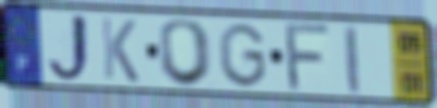F: (284, 22, 335, 94)
G: (215, 21, 270, 90)
I: (342, 23, 363, 97)
J: (45, 11, 96, 86)
K: (98, 15, 142, 85)
O: (157, 18, 216, 89)
